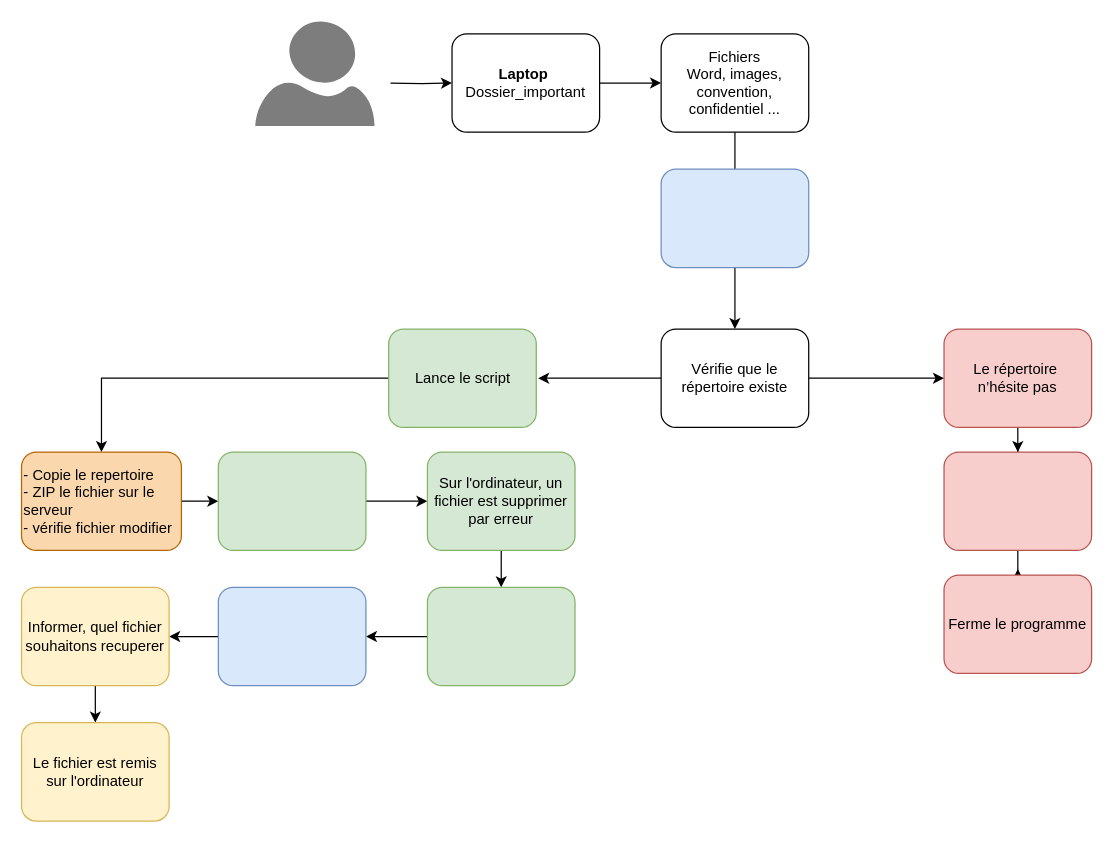
Some shapes in this 1113 by 843 pixel diagram are drawn without their labels. Each missing label, with the centre of its shape:
"Affiche un message d'erreur Contacter le support informatique" goes at pixel 1017 500.
"Contacter le service informatique" goes at pixel 291 636.
"Le fichier est toujours sur le serveur sauvegarder" goes at pixel 500 636.
"sauvegarde le dossier sur le serveur" goes at pixel 291 500.
"Sur le bureau : fichier - backup.bat" goes at pixel 734 218.
